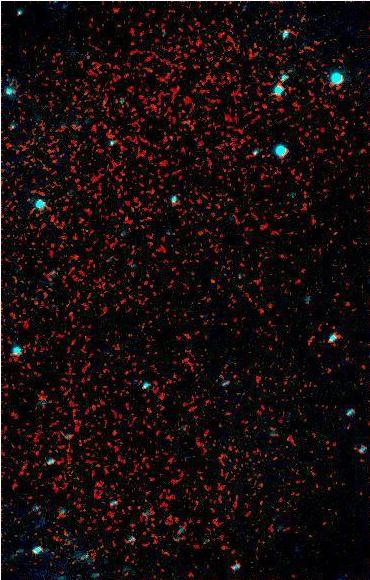star: (59, 243, 89, 273)
